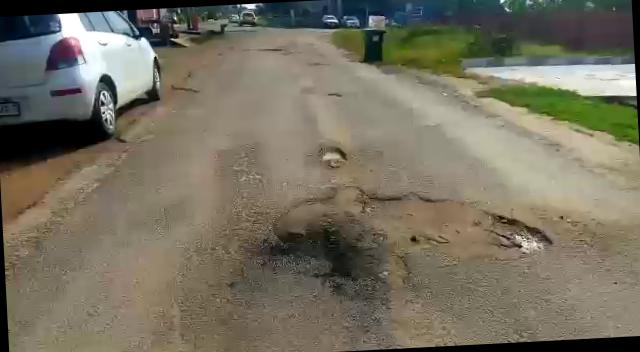pothole: (268, 176, 556, 276), (312, 146, 348, 170)
